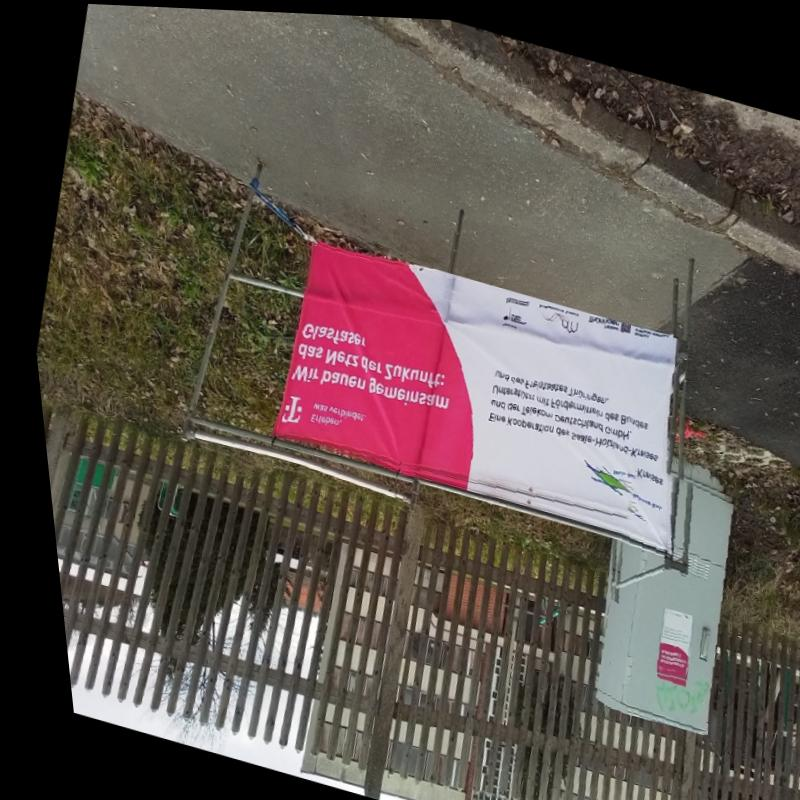Banner: (264, 244, 668, 519)
NT-Gehause: (580, 486, 722, 729)
Steaker: (643, 602, 679, 673)
